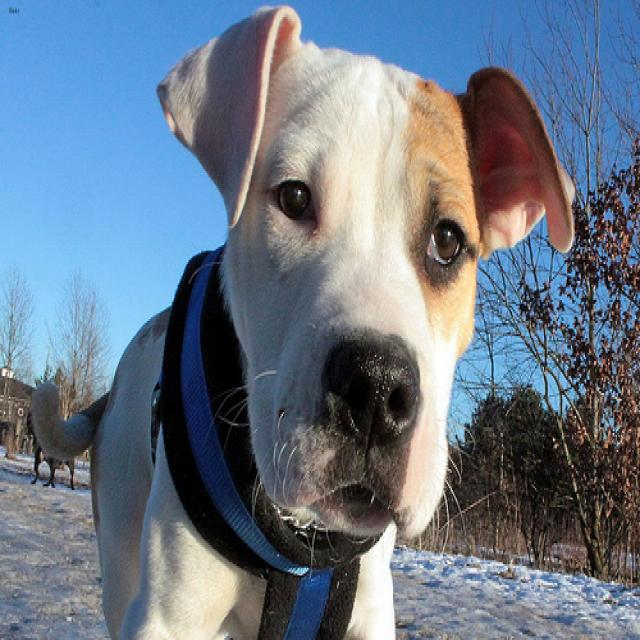dog-american_bulldog: (145, 2, 586, 636)
